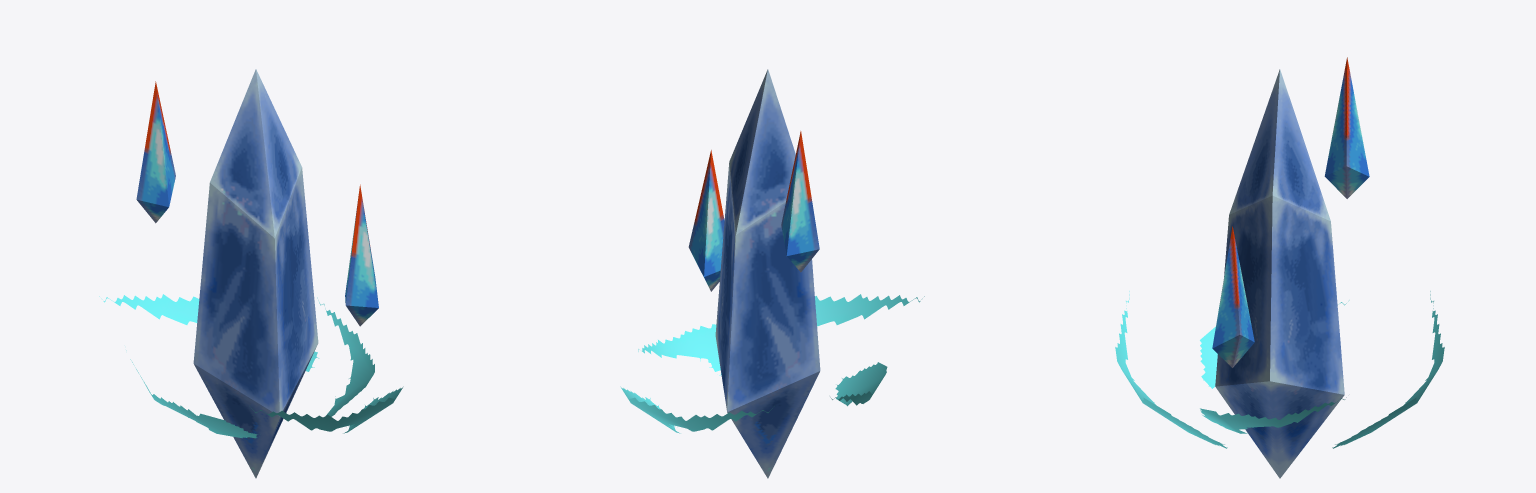
The model's file is blizzard.fbx.
3 views of the same model, side by side, from view 1: azimuth 30°, elevation 25°; view 2: azimuth 150°, elevation 25°; view 3: azimuth 270°, elevation 25° (orthographic).
Parts seen in each view (by area): view 1: blizzrd, shard_a, ring_outer, ring_inner, shard_b; view 2: blizzrd, ring_outer, shard_a, ring_inner, shard_b; view 3: blizzrd, shard_a, shard_b, ring_outer, ring_inner.
Part boxes in pixels (x1,y1,x2,y2): blizzrd: (193, 69, 318, 478); shard_a: (136, 81, 175, 223); ring_outer: (99, 294, 403, 433); ring_inner: (126, 297, 374, 438); shard_b: (345, 184, 378, 326); blizzrd: (715, 69, 820, 478); ring_outer: (620, 294, 924, 433); shard_a: (781, 131, 819, 272); ring_inner: (638, 324, 887, 406); shard_b: (688, 150, 724, 291); blizzrd: (1215, 69, 1344, 478); shard_a: (1324, 57, 1369, 198); shard_b: (1212, 226, 1254, 367); ring_outer: (1115, 291, 1444, 448); ring_inner: (1200, 300, 1349, 433).
Size of the model in its own units: 108 by 101 by 108.
1 material, 1 textured.
